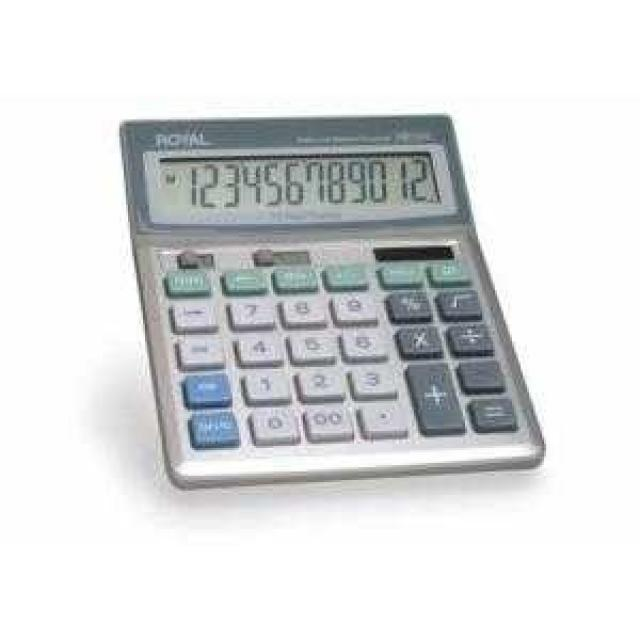Calculator: (117, 111, 546, 491)
